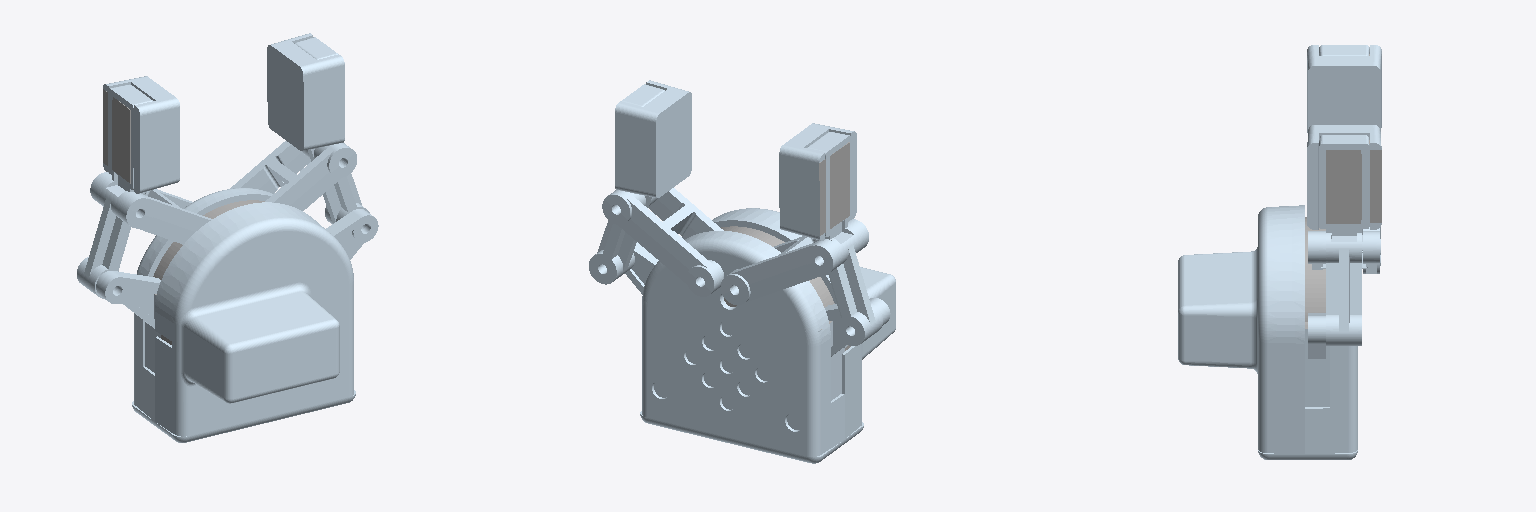
The model's file is gripper.obj.
3 views of the same model, side by side, from view 1: azimuth 30°, elevation 25°; view 2: azimuth 150°, elevation 25°; view 3: azimuth 270°, elevation 25° (orthographic).
Visible parts, largest first — view 1: obj1, obj2, obj3; view 2: obj1, obj2, obj3; view 3: obj1, obj2, obj3.
Boxes of the visible parts, x1,y1,x2,y2 form: obj1: [77, 33, 378, 442]; obj2: [84, 35, 370, 442]; obj3: [103, 89, 264, 344]; obj1: [595, 81, 895, 462]; obj2: [589, 80, 894, 463]; obj3: [721, 142, 850, 350]; obj1: [1178, 45, 1381, 459]; obj2: [1178, 45, 1381, 459]; obj3: [1305, 54, 1381, 328].
Size of the model in its own units: 88.17 by 99.21 by 56.23.